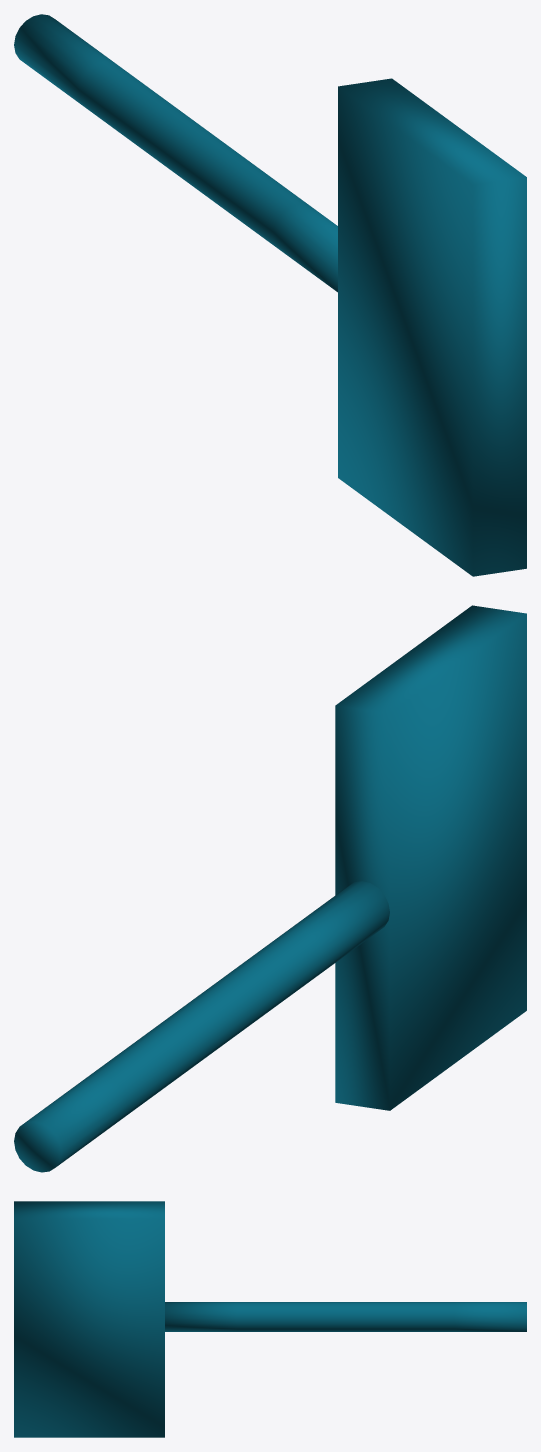
The model's file is sign6.obj.
3 renders of one model, top to bottom at view 1: azimuth 30°, elevation 25°; view 2: azimuth 150°, elevation 25°; view 3: azimuth 270°, elevation 25°, orthographic. The views are drawn at different scales.
Visible parts, largest first — view 1: leg; view 2: leg; view 3: leg.
Boxes of the visible parts, x1,y1,x2,y2 form: leg: (14, 14, 526, 576); leg: (14, 605, 526, 1172); leg: (14, 1201, 526, 1437).
Bounding box in the file's own units: 1703 × 11949 × 25059.
